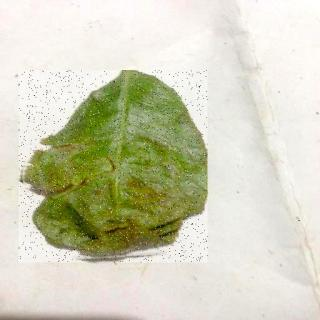Red Leaf Spot: (20, 71, 209, 263)
